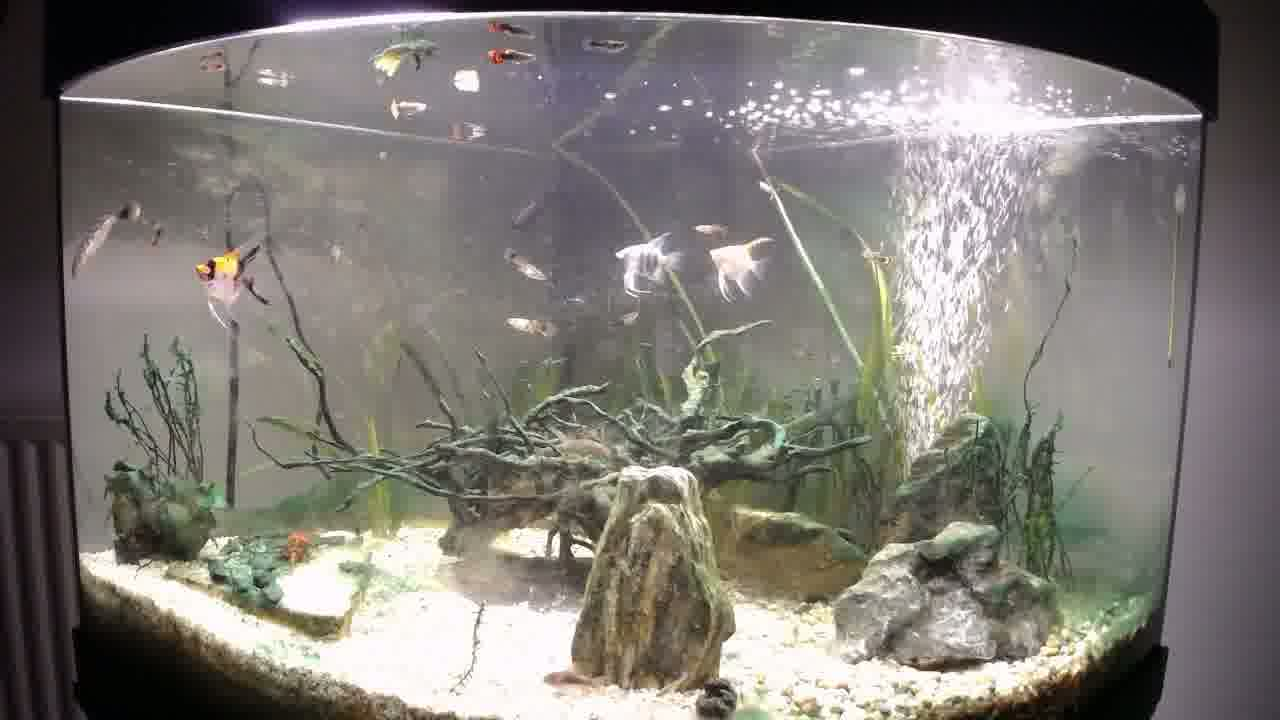Ancistrus: (274, 525, 322, 571)
Botia_Almorhae: (66, 201, 128, 282)
Botia_Striata: (556, 433, 614, 461)
Corydoras_Panda: (538, 662, 619, 700)
Pterophyllum_Scalare_BB: (610, 227, 685, 300)
Pterophyllum_Scalare_Y: (705, 232, 778, 304)
Pterophyllum_Scalare_YWB: (191, 235, 272, 334)
